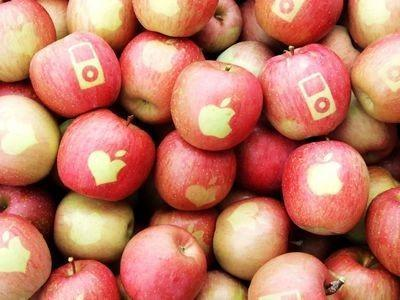apple: (56, 109, 154, 201), (258, 42, 349, 141), (280, 138, 369, 236), (169, 61, 261, 152), (117, 30, 205, 125), (31, 29, 121, 115), (212, 194, 291, 281), (153, 129, 236, 211), (119, 224, 207, 296), (51, 192, 134, 264), (140, 207, 215, 277), (348, 30, 400, 123), (1, 1, 56, 82), (317, 246, 395, 299), (254, 1, 342, 46), (31, 258, 120, 298), (133, 1, 225, 39), (364, 187, 400, 274), (345, 1, 399, 48)
